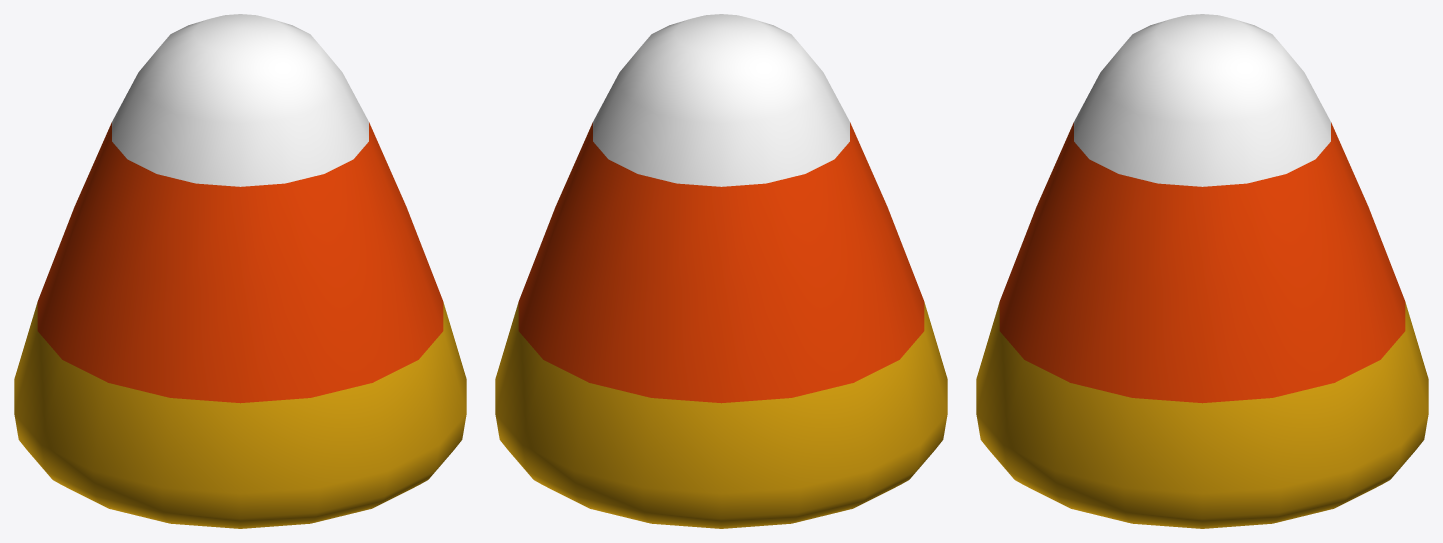
File: CandyCorn.FBX
3 views of the same model, side by side, from view 1: azimuth 30°, elevation 25°; view 2: azimuth 150°, elevation 25°; view 3: azimuth 270°, elevation 25° (orthographic).
Parts seen in each view (by area): view 1: Cylinder130; view 2: Cylinder130; view 3: Cylinder130.
Boxes of the visible parts, x1,y1,x2,y2 form: Cylinder130: (14,14,466,528); Cylinder130: (495,14,947,528); Cylinder130: (976,14,1428,528).
Bounding box in the file's own units: 793 × 798 × 781.
